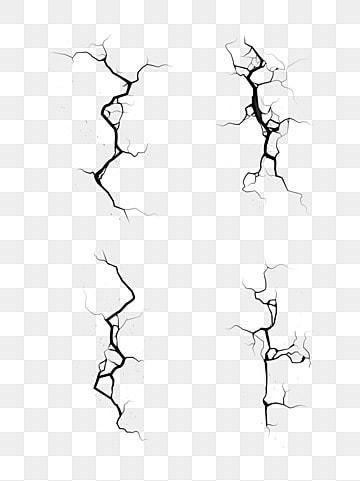Crack: (50, 32, 179, 232), (211, 30, 313, 217), (230, 254, 316, 439), (83, 243, 159, 446)
